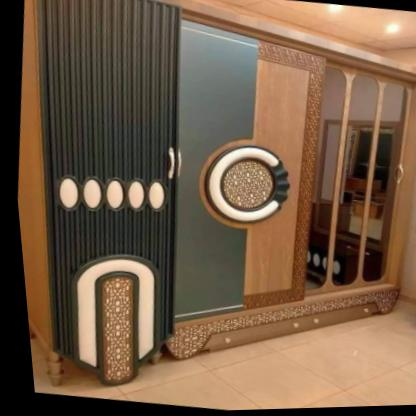Ceramic floor: (24, 267, 416, 411)
Closet: (34, 0, 416, 387)
